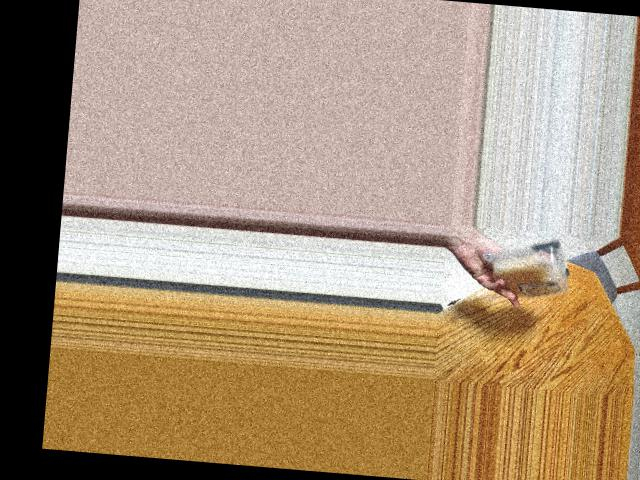cheese: (488, 236, 575, 304)
